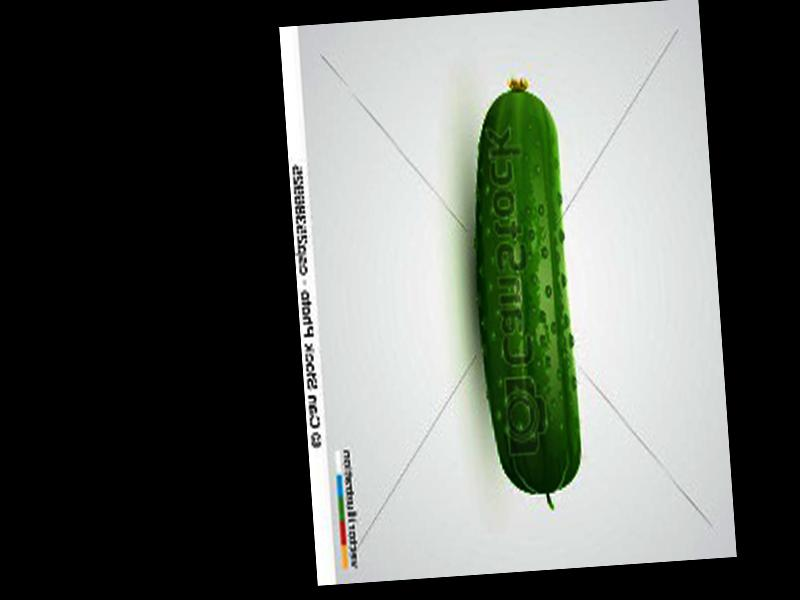Cucumber: (464, 74, 586, 513)
